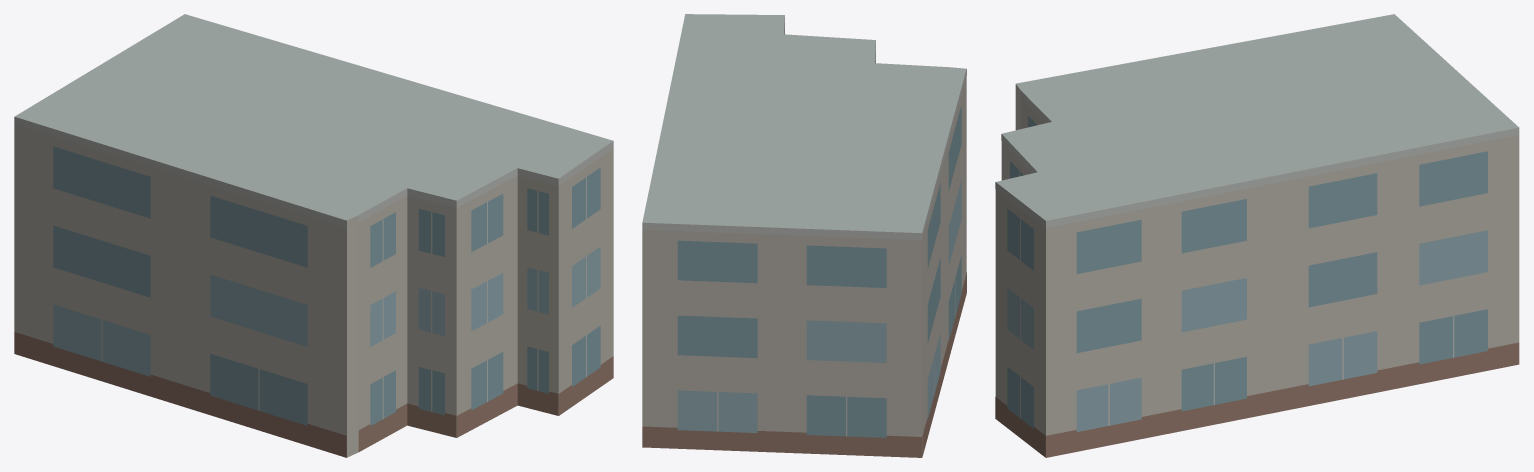
File: survey-upis-33022007.glb
3 views of the same model, side by side, from view 1: azimuth 30°, elevation 25°; view 2: azimuth 150°, elevation 25°; view 3: azimuth 270°, elevation 25° (orthographic). The views are drawn at different scales.
Parts seen in each view (by area): view 1: survey-upis-33022007.tmp; view 2: survey-upis-33022007.tmp; view 3: survey-upis-33022007.tmp.
Boxes of the visible parts, x1,y1,x2,y2 form: survey-upis-33022007.tmp: [14, 14, 613, 457]; survey-upis-33022007.tmp: [642, 14, 966, 457]; survey-upis-33022007.tmp: [995, 14, 1519, 457].
Size of the model in its own units: 14.81 by 7.9 by 15.84.
